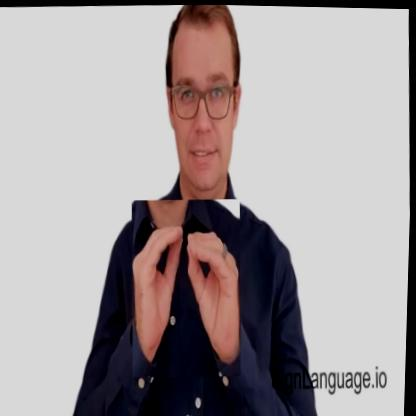Fix: (128, 196, 247, 378)
